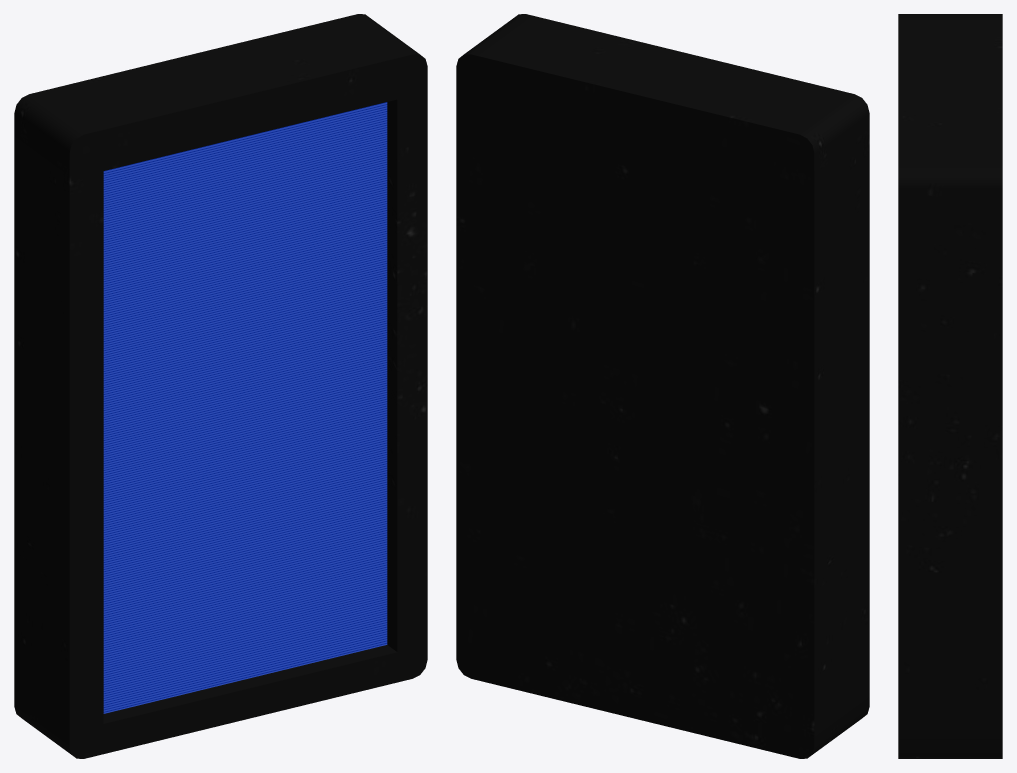
Rendered from Scanner.glb.
3 views of the same model, side by side, from view 1: azimuth 30°, elevation 25°; view 2: azimuth 150°, elevation 25°; view 3: azimuth 270°, elevation 25° (orthographic). The views are drawn at different scales.
Visible parts, largest first — view 1: BlueScreen, Scanner; view 2: Scanner; view 3: Scanner.
Boxes of the visible parts, x1,y1,x2,y2 form: BlueScreen: (103, 102, 387, 713); Scanner: (14, 14, 427, 758); Scanner: (456, 14, 869, 758); Scanner: (898, 14, 1002, 758).
Size of the model in its own units: 3 by 5 by 0.8.
3 materials, 3 textured.
